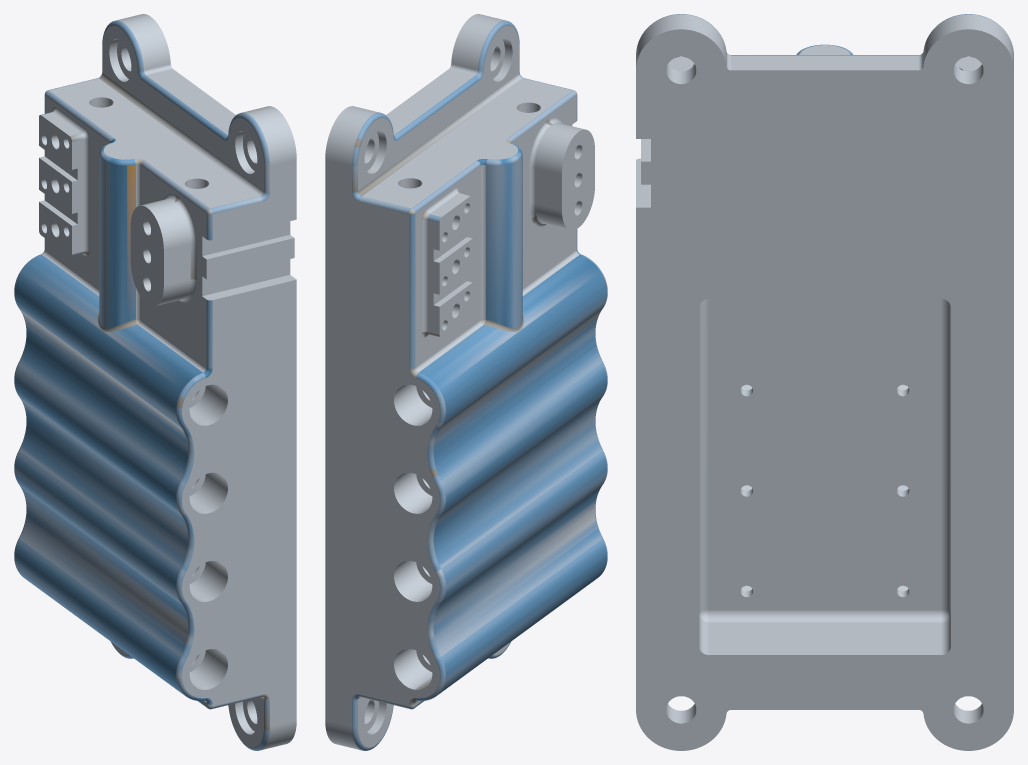
The model's file is roughness_model.glb.
3 renders of one model, left to right at view 1: azimuth 30°, elevation 25°; view 2: azimuth 150°, elevation 25°; view 3: azimuth 270°, elevation 25°, orthographic. The views are drawn at different scales.
Visible parts, largest first — view 1: geometry_0; view 2: geometry_0; view 3: geometry_0.
Boxes of the visible parts, <box> form: geometry_0: <box>14,14,296,750</box>; geometry_0: <box>325,14,607,750</box>; geometry_0: <box>636,14,1013,750</box>.
Bounding box in the file's own units: 31 × 158 × 75.
